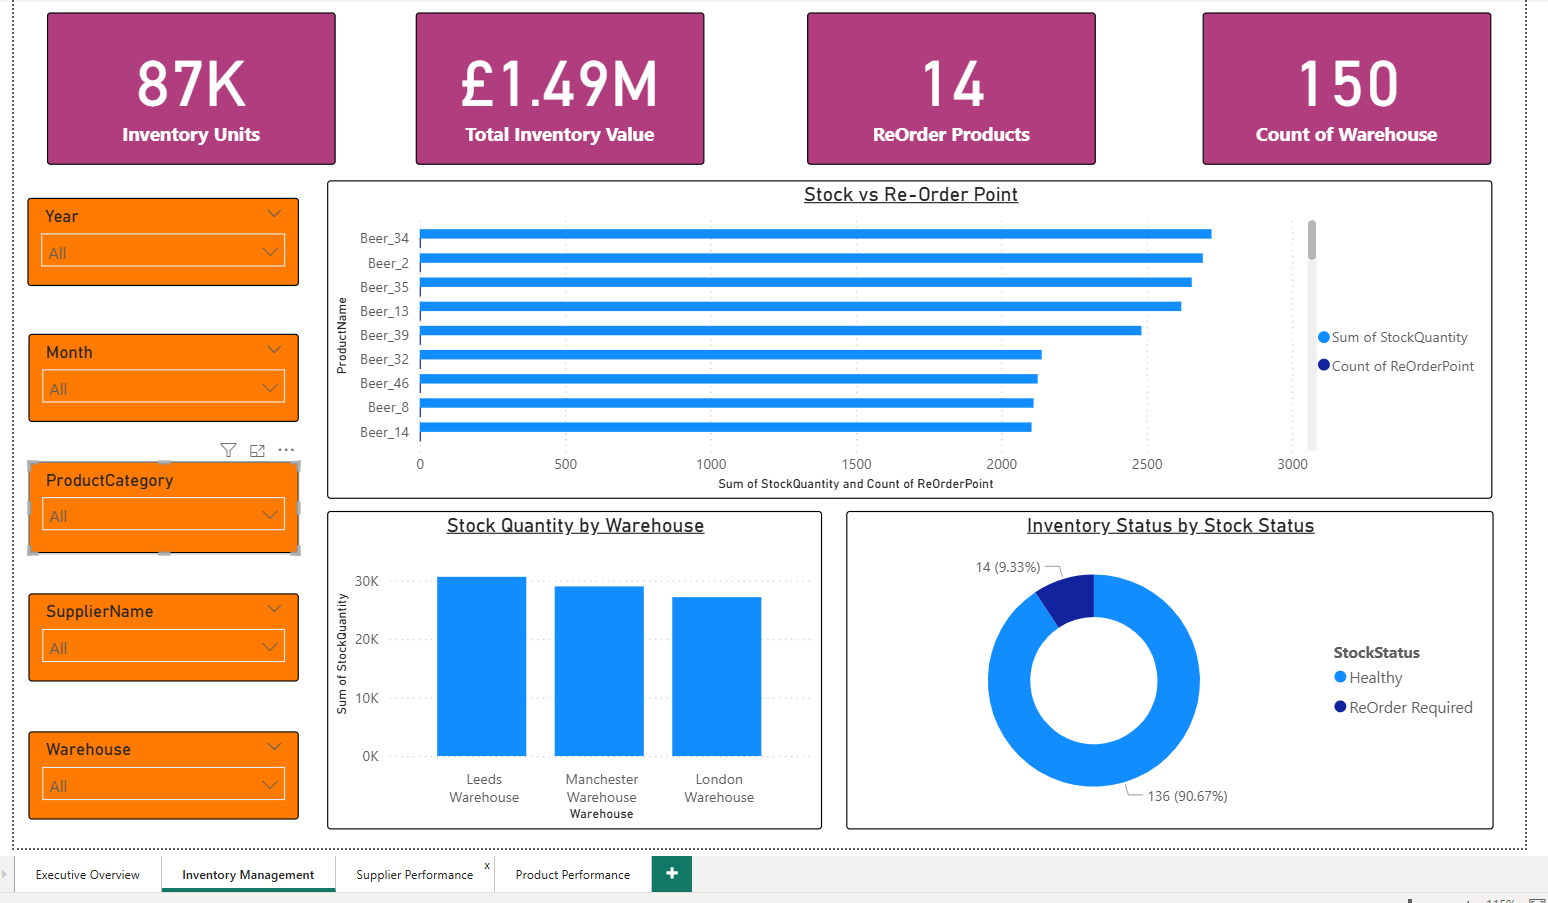

Layout of this report page (visuals, bound fields, positions):
{"tool":"powerbi","page":{"name":"Inventory Management","canvas":[1280,720],"ordinal":1},"visuals":[{"type":"card","fields":{"Values":["Measure.Inventory Units"]},"box":[27.8,12.5,244.5,129],"z":0},{"type":"card","fields":{"Values":["Measure.Total Inventory Value"]},"box":[340.3,12.5,244.5,129],"z":1000},{"type":"card","fields":{"Values":["Measure.ReOrder Products"]},"box":[671.7,12.5,244.5,129],"z":2000},{"type":"card","fields":{"Values":["CountNonNull(FactInventory.Warehouse)"]},"box":[1007.6,12.5,244.5,129],"z":3000},{"type":"clusteredBarChart","title":"Stock vs Re-Order Point","fields":{"Category":["Dimproduct.ProductName"],"Y":["Sum(FactInventory.StockQuantity)","Count(FactInventory.ReOrderPoint)"]},"box":[265.1,154,987.9,269.6],"z":4000},{"type":"columnChart","title":"Stock Quantity by Warehouse","fields":{"Category":["FactInventory.Warehouse"],"Y":["Sum(FactInventory.StockQuantity)"]},"box":[265.1,434.4,419.1,269.6],"z":5000},{"type":"donutChart","title":"Inventory Status by Stock Status","fields":{"Category":["FactInventory.StockStatus"],"Y":["CountNonNull(FactInventory.InventoryID)"]},"box":[704.8,434.4,548.1,269.6],"z":6000},{"type":"slicer","fields":{"Values":["FactInventory.Warehouse"]},"box":[12.5,621.6,229.3,75.2],"z":7000},{"type":"slicer","fields":{"Values":["DimDate.Year"]},"box":[11.6,169.3,230.2,75.2],"z":8000},{"type":"slicer","fields":{"Values":["DimDate.Month"]},"box":[12.5,284.8,229.3,75.2],"z":9000},{"type":"slicer","fields":{"Values":["Dimproduct.ProductCategory"]},"box":[12.5,393.2,229.3,77.9],"z":10000},{"type":"slicer","fields":{"Values":["DimSupplier.SupplierName"]},"box":[12.5,504.2,229.3,75.2],"z":11000}]}

Visuals, with their boxes on the page's 1280x720 design canvas (x1, y1, x2, y2). These are canvas units, not pixel positions in the 1548x903 screenshot, which may show the page scaled, cropped or inside an application window:
card - Measure.Inventory Units: 28, 12, 272, 142
card - Measure.Total Inventory Value: 340, 12, 585, 142
card - Measure.ReOrder Products: 672, 12, 916, 142
card - CountNonNull(FactInventory.Warehouse): 1008, 12, 1252, 142
"Stock vs Re-Order Point" clusteredBarChart: 265, 154, 1253, 424
"Stock Quantity by Warehouse" columnChart: 265, 434, 684, 704
"Inventory Status by Stock Status" donutChart: 705, 434, 1253, 704
slicer - FactInventory.Warehouse: 12, 622, 242, 697
slicer - DimDate.Year: 12, 169, 242, 244
slicer - DimDate.Month: 12, 285, 242, 360
slicer - Dimproduct.ProductCategory: 12, 393, 242, 471
slicer - DimSupplier.SupplierName: 12, 504, 242, 579
